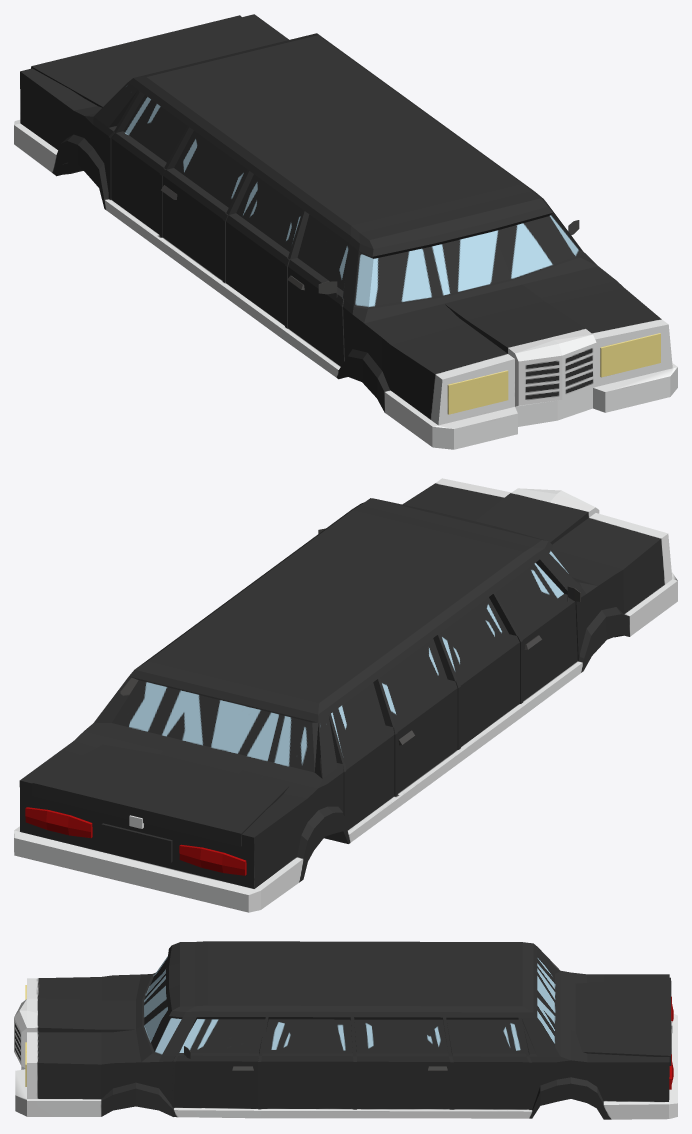
Rendered from limo_done.fbx.
The picture shows the model from 3 angles, top to bottom: view 1: azimuth 30°, elevation 25°; view 2: azimuth 150°, elevation 25°; view 3: azimuth 270°, elevation 25°; orthographic projection. The views are drawn at different scales.
Visible parts, largest first — view 1: back_lock_001; view 2: back_lock_001; view 3: back_lock_001.
Boxes of the visible parts, box(x1,y1,x2,y2) form: back_lock_001: box(14, 14, 677, 449); back_lock_001: box(14, 478, 677, 912); back_lock_001: box(14, 941, 677, 1119).
Bounding box in the file's own units: 1005 × 495 × 2878.
